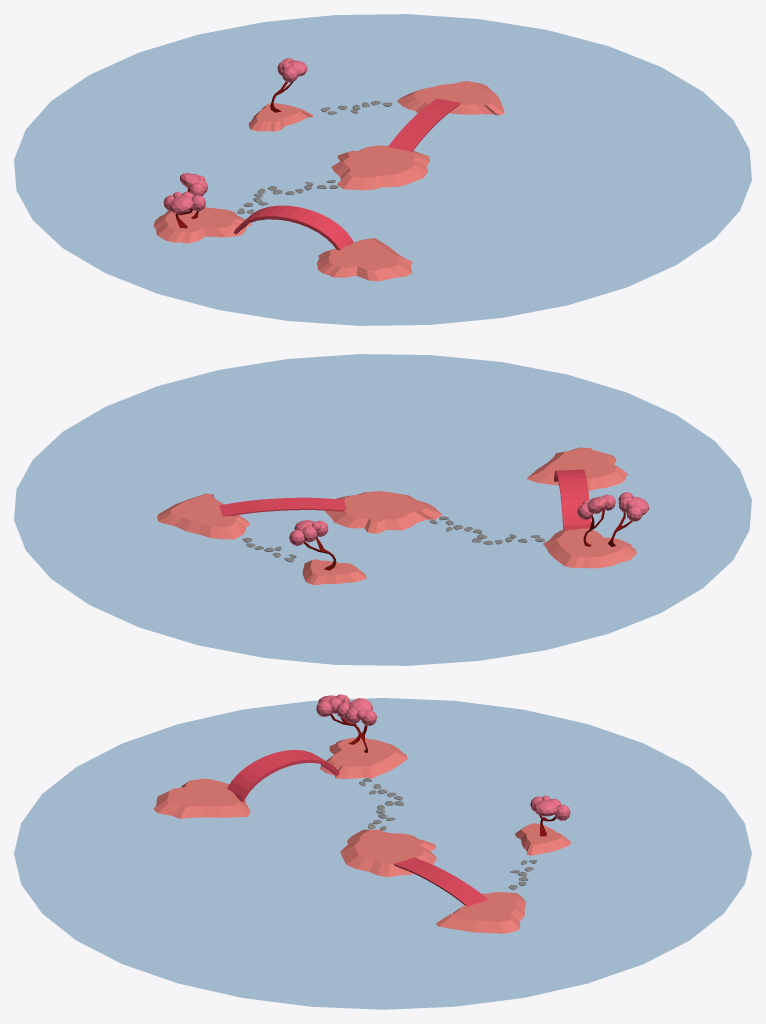
Rendered from MainMenu_IslandLayout.fbx.
3 views of the same model, one above another, from view 1: azimuth 30°, elevation 25°; view 2: azimuth 150°, elevation 25°; view 3: azimuth 270°, elevation 25° (orthographic).
Parts seen in each view (by area): view 1: Circle, Cube, Circle.001, Plane.001, Cube.002, Cube.001; view 2: Circle, Cube, Plane.001, Circle.001, Cube.001, Cube.002, Cube.003; view 3: Circle, Cube, Circle.001, Plane.001, Cube.003, Cube.001.
Boxes of the visible parts, left/top/right/bottom form: Circle: left=14, top=14, right=751, bottom=325; Cube: left=153, top=81, right=504, bottom=281; Circle.001: left=233, top=205, right=353, bottom=250; Plane.001: left=387, top=98, right=460, bottom=151; Cube.002: left=163, top=191, right=205, bottom=213; Cube.001: left=277, top=58, right=307, bottom=82; Circle: left=14, top=354, right=751, bottom=665; Cube: left=157, top=447, right=636, bottom=584; Plane.001: left=219, top=497, right=346, bottom=516; Circle.001: left=554, top=469, right=590, bottom=530; Cube.001: left=289, top=520, right=328, bottom=545; Cube.002: left=618, top=492, right=649, bottom=521; Cube.003: left=577, top=494, right=615, bottom=519; Circle: left=14, top=698, right=751, bottom=1009; Cube: left=153, top=737, right=570, bottom=933; Circle.001: left=227, top=750, right=339, bottom=802; Plane.001: left=393, top=857, right=488, bottom=906; Cube.003: left=336, top=698, right=376, bottom=725; Cube.001: left=530, top=795, right=570, bottom=820.
Size of the model in its own units: 9948 by 891 by 9948.
